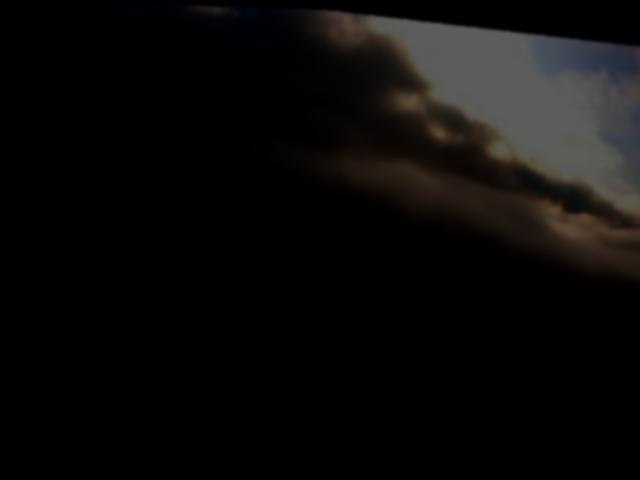uav: (325, 197, 380, 232)
